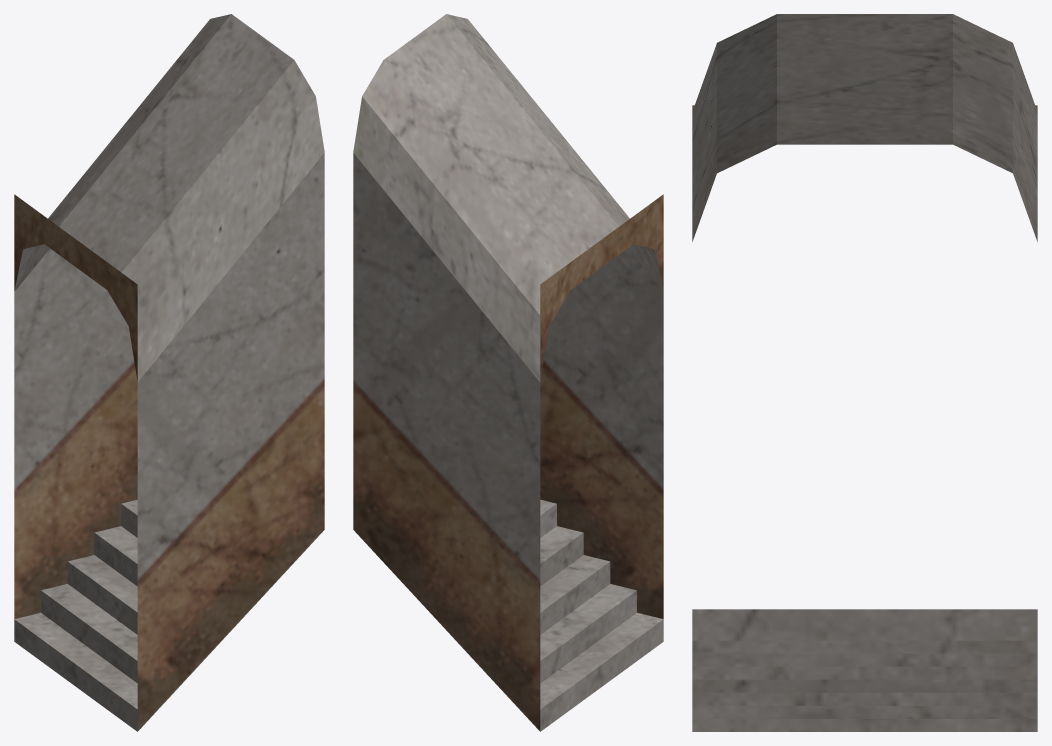
Rendered from MESH_ESCADA02.fbx.
The picture shows the model from 3 angles, left to right: view 1: azimuth 30°, elevation 25°; view 2: azimuth 150°, elevation 25°; view 3: azimuth 270°, elevation 25°; orthographic projection. The views are drawn at different scales.
Parts seen in each view (by area): view 1: MESH_ESCADA02; view 2: MESH_ESCADA02; view 3: MESH_ESCADA02.
Boxes of the visible parts, x1,y1,x2,y2 form: MESH_ESCADA02: (14, 14, 324, 731); MESH_ESCADA02: (353, 14, 663, 731); MESH_ESCADA02: (692, 14, 1037, 731).
Bounding box in the file's own units: 1.75 × 5.4 × 2.
